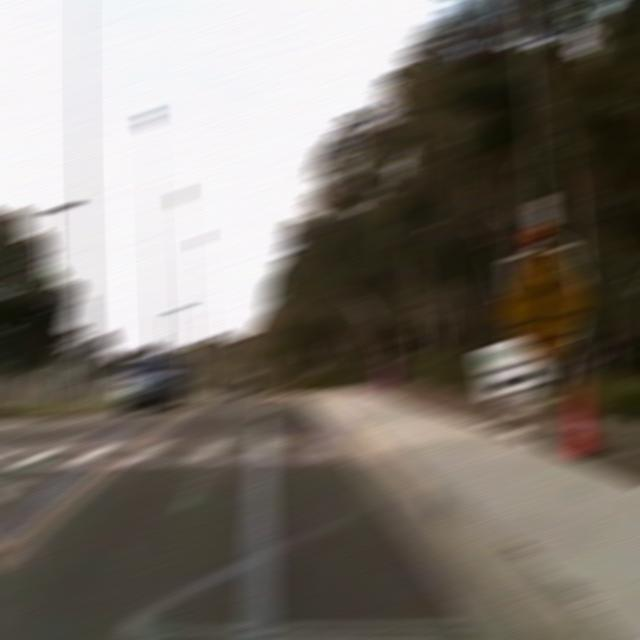pedestrianCrossing: (495, 244, 590, 365)
